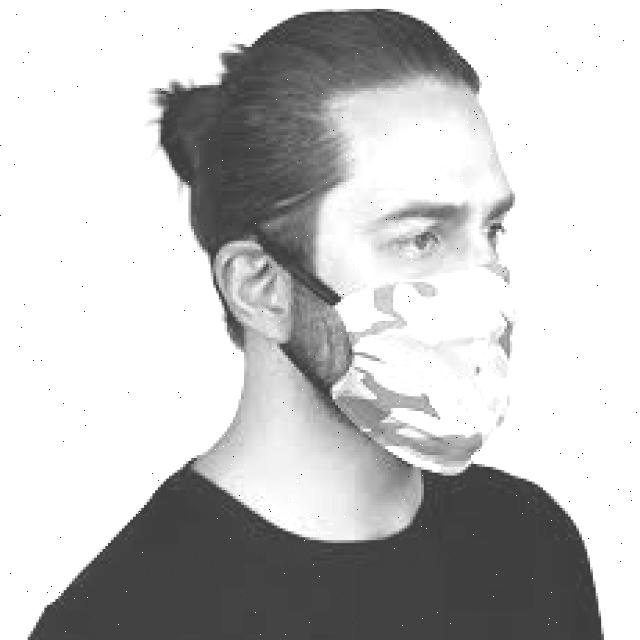fake: (320, 260, 524, 483)
real: (310, 75, 525, 488)
